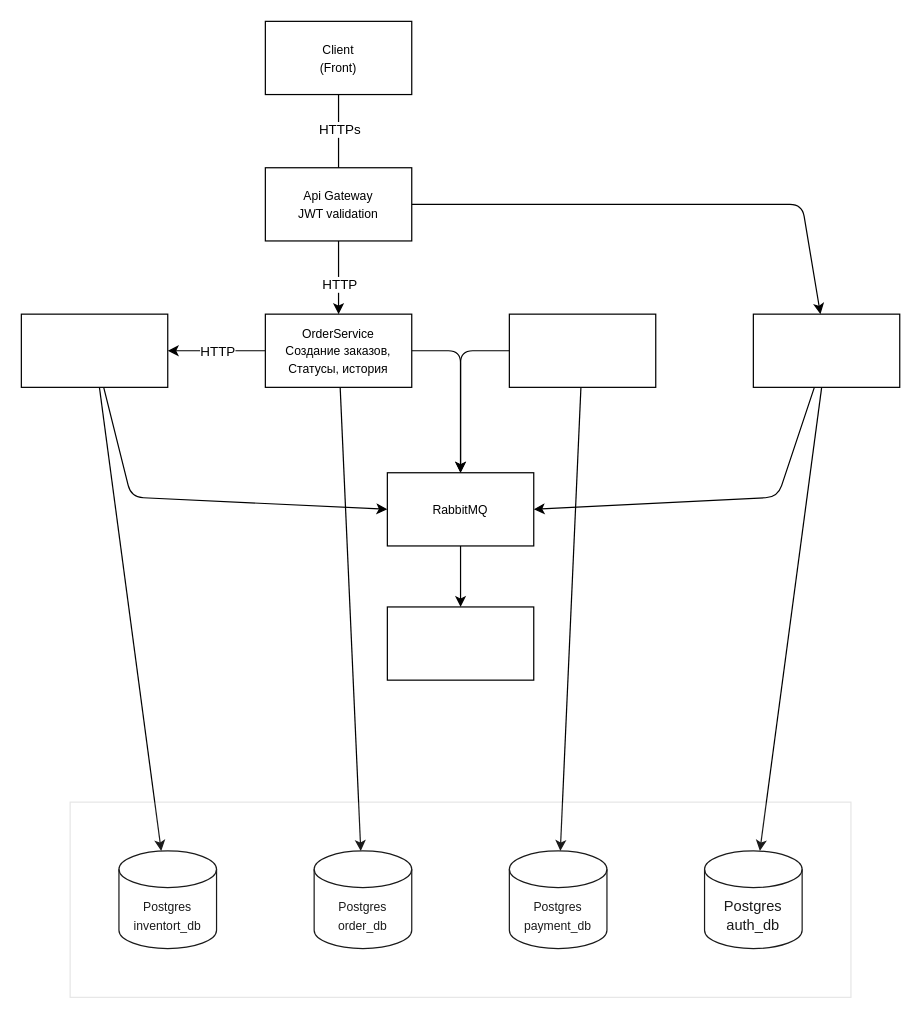
The diagram is 921 pixels wide and 1019 high, and some of its shapes have lost their labels. Here are the shapes that lost their labels. From the top down, the box of each, then its label:
(20, 313, 168, 387): InventoryService Товары, остатки, резервирование
(508, 313, 656, 387): PaymentService Оплата, статусы транзакций
(752, 313, 900, 387): AuthService Авторизация через JWT
(386, 606, 534, 680): NotificationService email/push/logs
